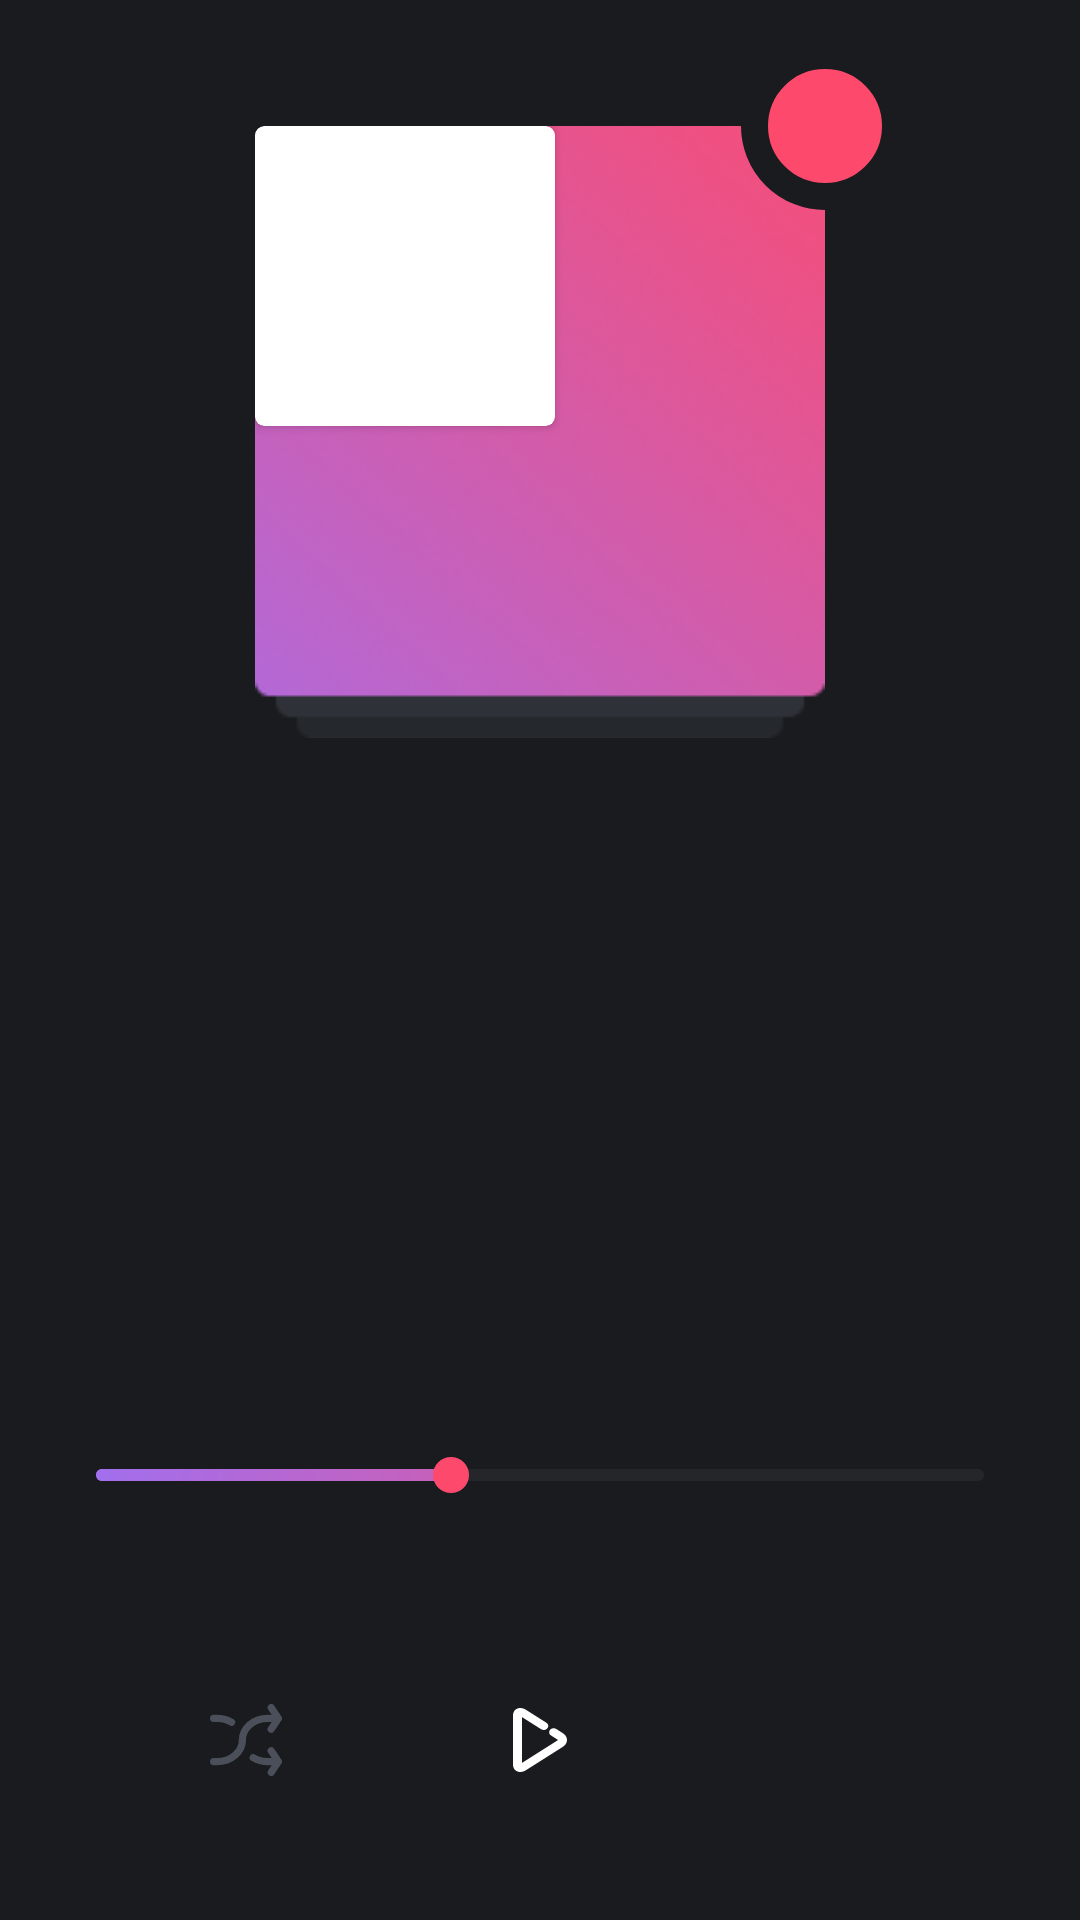

Icon click points for this 1080x1920 phone screenshot, format [x,y]:
play pause: [540,1740]
shuffle: [246,1740]
